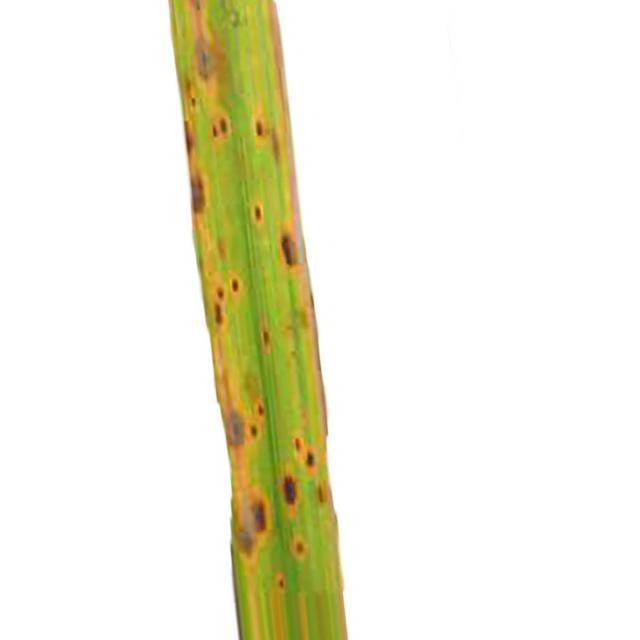Brown_Spot: (191, 32, 215, 80), (276, 225, 300, 265), (231, 520, 256, 556), (224, 410, 245, 445), (191, 175, 205, 214), (252, 501, 266, 530), (316, 480, 331, 505), (284, 476, 296, 504), (184, 120, 194, 153), (260, 326, 271, 354), (292, 538, 306, 556), (214, 302, 224, 325), (189, 0, 205, 14), (218, 116, 229, 135), (275, 572, 286, 590), (211, 121, 221, 139), (254, 204, 264, 222), (230, 275, 240, 292), (306, 451, 316, 468), (292, 438, 304, 452), (254, 400, 264, 416), (256, 121, 264, 136), (216, 288, 225, 300), (250, 425, 258, 436)
